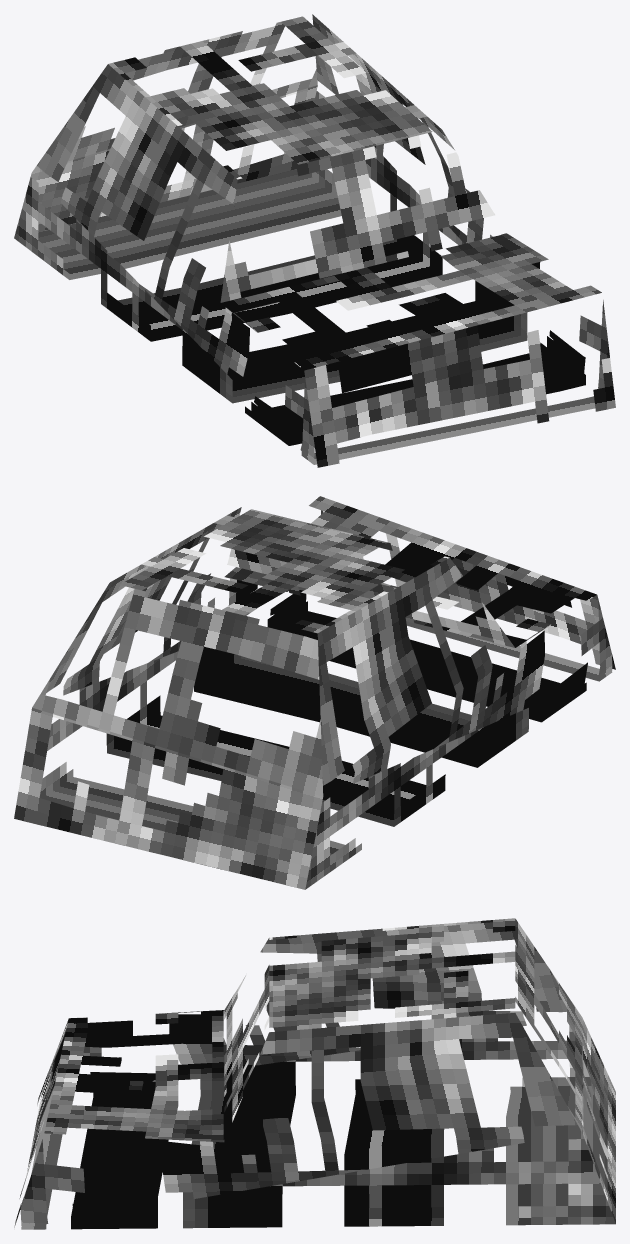
Rendered from jeep_wreck.glb.
3 views of the same model, one above another, from view 1: azimuth 30°, elevation 25°; view 2: azimuth 150°, elevation 25°; view 3: azimuth 270°, elevation 25° (orthographic). The views are drawn at different scales.
Visible parts, largest first — view 1: jeep; view 2: jeep; view 3: jeep.
Boxes of the visible parts, x1,y1,x2,y2 form: jeep: (14,14,615,467); jeep: (14,496,615,889); jeep: (14,918,615,1229).
Bounding box in the file's own units: 2.53 × 1.76 × 4.84.
1 material, 1 textured.
